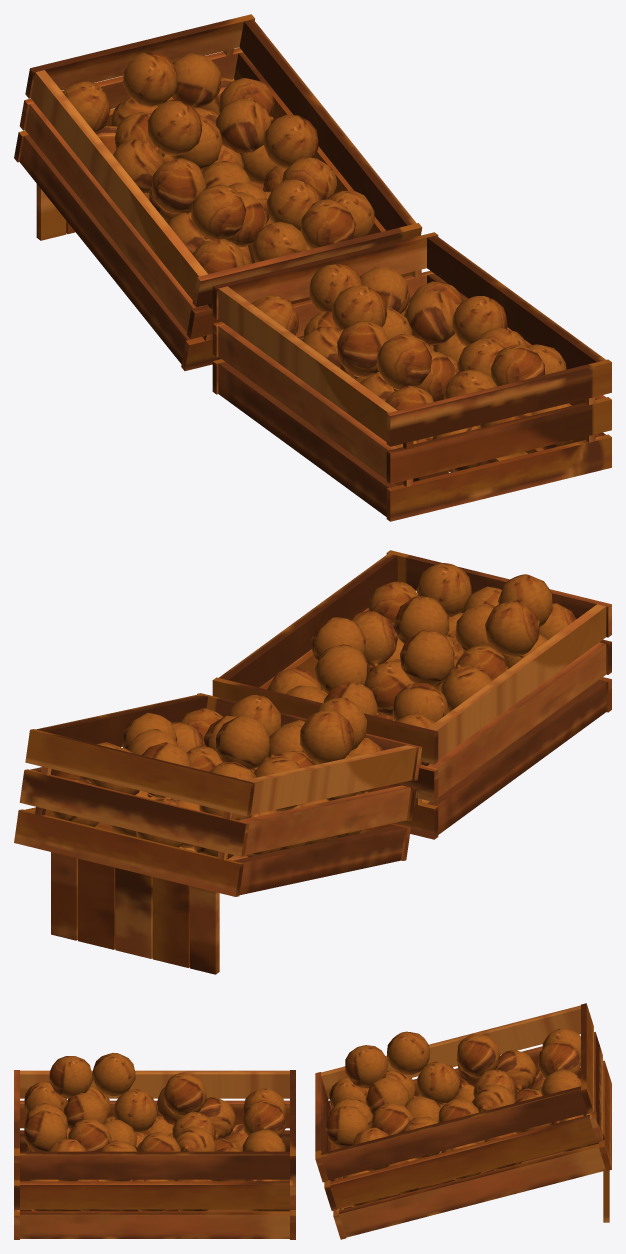
File: fruit crate_9.fbx
The picture shows the model from 3 angles, top to bottom: view 1: azimuth 30°, elevation 25°; view 2: azimuth 150°, elevation 25°; view 3: azimuth 270°, elevation 25°; orthographic projection. The views are drawn at different scales.
Visible parts, largest first — view 1: Cube.012, Cube.022, Plane.929, Plane.374, Plane.904, Plane.920, Plane.902, Plane.905, Plane.933, Plane.343, Plane.340, Plane.913 (+27 smaller); view 2: Cube.022, Cube.012, Cube.029, Plane.340, Plane.361, Plane.902, Plane.920, Plane.377, Plane.343, Plane.379, Plane.358, Plane.341 (+20 smaller); view 3: Cube.022, Cube.012, Plane.902, Plane.340, Plane.361, Plane.920, Plane.374, Plane.929, Plane.910, Plane.351, Plane.377, Plane.932 (+33 smaller).
Boxes of the visible parts, <box> form: Cube.012: <box>212,232,611,521</box>; Cube.022: <box>14,14,422,370</box>; Plane.929: <box>191,184,246,240</box>; Plane.374: <box>377,334,431,390</box>; Plane.904: <box>123,52,178,106</box>; Plane.920: <box>147,101,202,155</box>; Plane.902: <box>151,158,206,213</box>; Plane.905: <box>216,98,273,152</box>; Plane.933: <box>263,114,318,169</box>; Plane.343: <box>404,291,459,345</box>; Plane.340: <box>337,321,389,378</box>; Plane.913: <box>171,53,220,107</box>; Cube.022: <box>14,693,422,896</box>; Cube.012: <box>212,550,611,839</box>; Cube.029: <box>51,852,219,974</box>; Plane.340: <box>485,600,539,657</box>; Plane.361: <box>400,630,454,685</box>; Plane.902: <box>300,710,354,763</box>; Plane.920: <box>216,716,270,769</box>; Plane.377: <box>416,563,471,616</box>; Plane.343: <box>315,644,370,694</box>; Plane.379: <box>394,596,449,643</box>; Plane.358: <box>351,611,397,667</box>; Plane.341: <box>392,683,447,722</box>; Cube.022: <box>315,1003,611,1239</box>; Cube.012: <box>14,1070,295,1239</box>; Plane.902: <box>387,1031,430,1074</box>; Plane.340: <box>92,1052,135,1096</box>; Plane.361: <box>163,1072,206,1116</box>; Plane.920: <box>456,1034,500,1077</box>; Plane.374: <box>49,1056,92,1098</box>; Plane.929: <box>345,1045,388,1088</box>; Plane.910: <box>416,1061,460,1104</box>; Plane.351: <box>113,1089,157,1132</box>; Plane.377: <box>24,1110,67,1151</box>; Plane.932: <box>325,1106,369,1148</box>.
Bounding box in the file's own units: 26.86 × 22.06 × 78.99.
